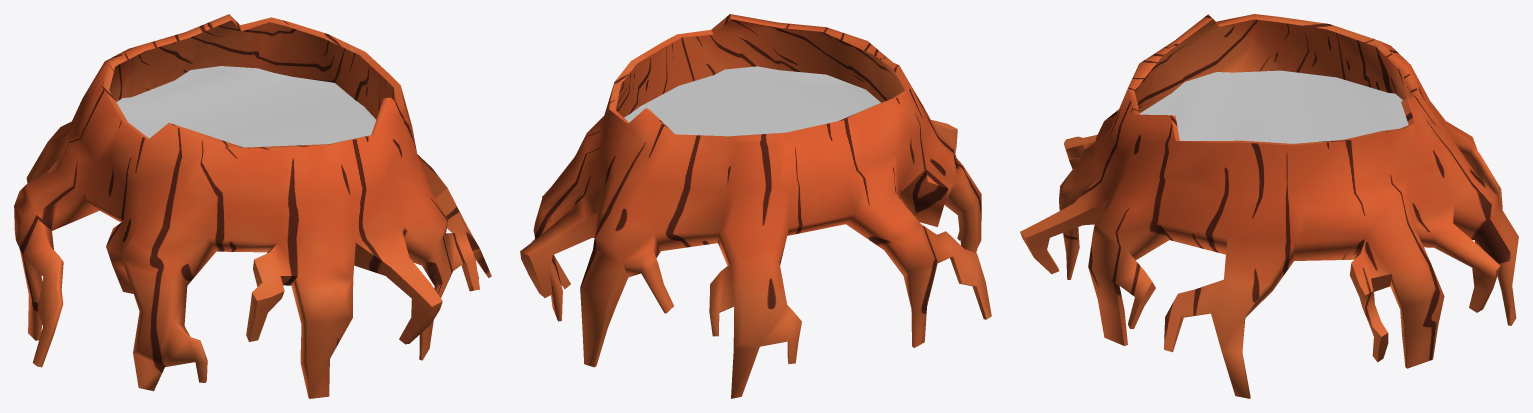
File: Tree05-stump.fbx
The picture shows the model from 3 angles, left to right: view 1: azimuth 30°, elevation 25°; view 2: azimuth 150°, elevation 25°; view 3: azimuth 270°, elevation 25°; orthographic projection. The views are drawn at different scales.
Parts seen in each view (by area): view 1: Tree05-stump; view 2: Tree05-stump; view 3: Tree05-stump.
Boxes of the visible parts, bbox=[...] form: Tree05-stump: bbox=[14, 14, 491, 398]; Tree05-stump: bbox=[520, 14, 991, 398]; Tree05-stump: bbox=[1020, 14, 1518, 398].
Size of the model in its own units: 416 by 227 by 427.
